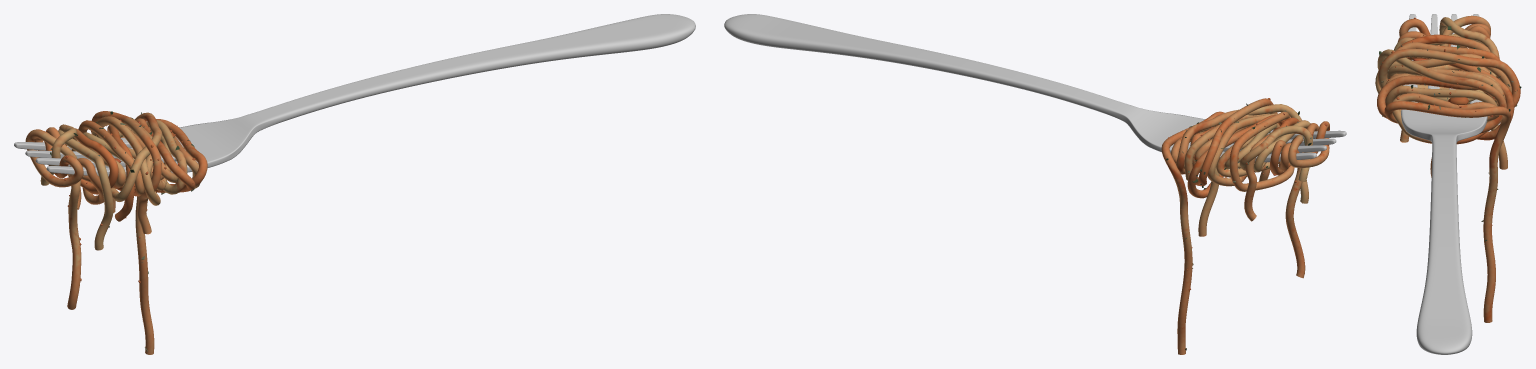
Rendered from spaghetti_and_fork.glb.
3 views of the same model, side by side, from view 1: azimuth 30°, elevation 25°; view 2: azimuth 150°, elevation 25°; view 3: azimuth 270°, elevation 25° (orthographic). The views are drawn at different scales.
Visible parts, largest first — view 1: Spagetti_0, Fork_1; view 2: Spagetti_0, Fork_1; view 3: Spagetti_0, Fork_1.
Boxes of the visible parts, x1=… form: Spagetti_0: x1=25, y1=111, x2=207, y2=354; Fork_1: x1=14, y1=14, x2=695, y2=176; Spagetti_0: x1=1161, y1=98, x2=1329, y2=354; Fork_1: x1=724, y1=14, x2=1346, y2=162; Spagetti_0: x1=1375, y1=15, x2=1521, y2=322; Fork_1: x1=1401, y1=14, x2=1487, y2=354.
Bounding box in the file's own units: 17.05 × 6.43 × 3.36.
Materials: 4 (4 with a texture image).
